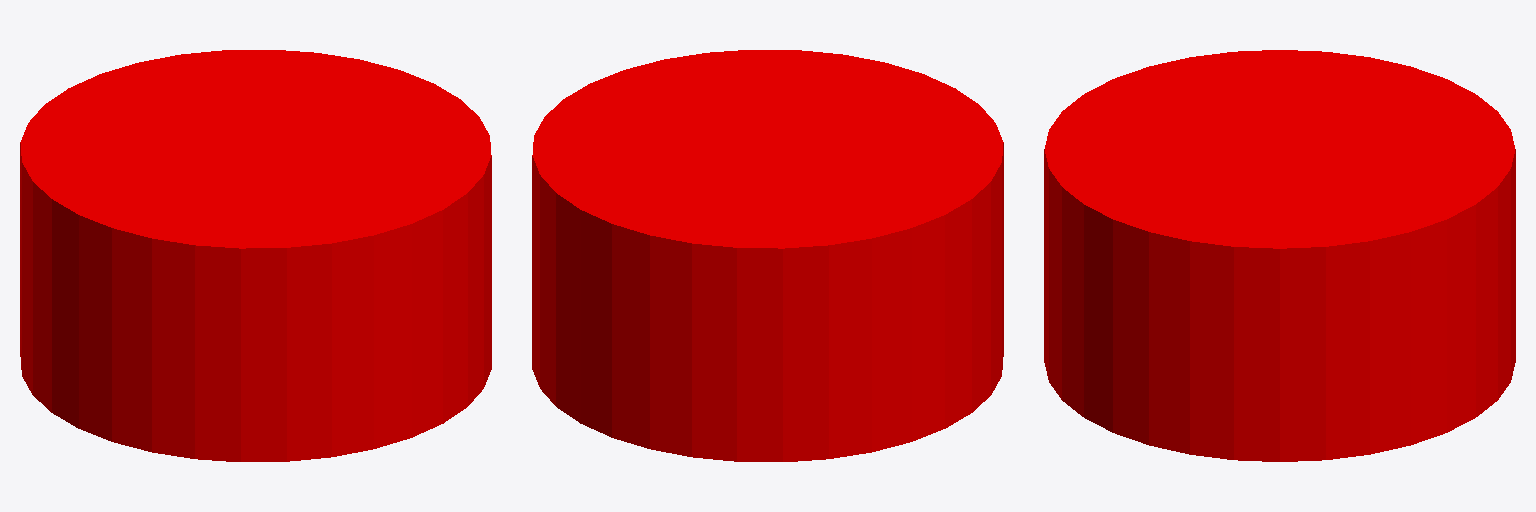
robot.urdf — test_robot:
<robot name="test_robot">
  <link name="base_link"/>

  <joint name="body_joint" type="fixed">
    <parent link="base_link"/>
    <child  link="body_link"/>
  </joint>
  <link name="body_link">
    <visual>
      <geometry>
        <cylinder length="0.22" radius="0.22"/>
      </geometry>
      <origin xyz="0 0 0" rpy="0 0 0"/>
      <material name="red">
        <color rgba="1.0 0.0 0.0 2.0"/>
      </material>
    </visual>
  </link>
</robot>

--- Render facts (derived) ---
Views: 3 orthographic renders of the robot side by side, from view 1: azimuth 30°, elevation 25°; view 2: azimuth 150°, elevation 25°; view 3: azimuth 270°, elevation 25°.
Robot: test_robot — 2 links, 1 joints (1 fixed); root link base_link; default pose: all joints at 0.
Links seen in each view (by area): view 1: body_link; view 2: body_link; view 3: body_link.
Link boxes in pixels (<box>): body_link: <box>20,50,491,461</box>; body_link: <box>532,50,1003,461</box>; body_link: <box>1044,50,1515,461</box>.
Size in the robot's own frame: 0.44 by 0.44 by 0.22 metres.
Geometry: primitives only (box / cylinder / sphere), no mesh files.